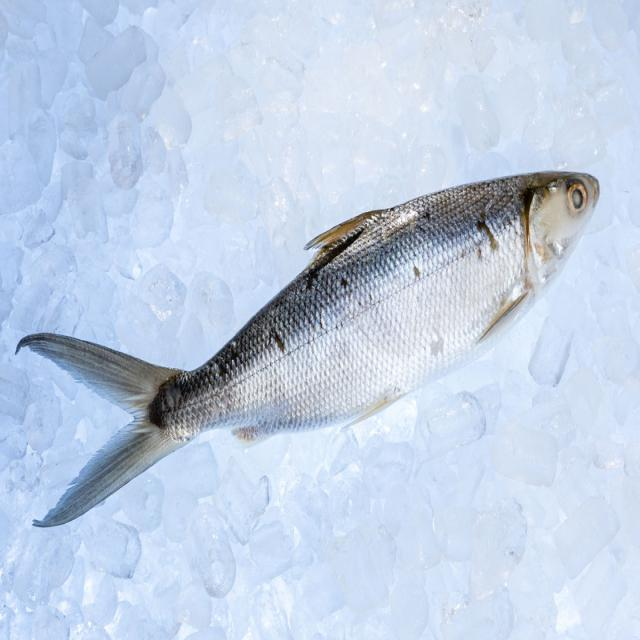Bangus: (9, 137, 640, 550)
